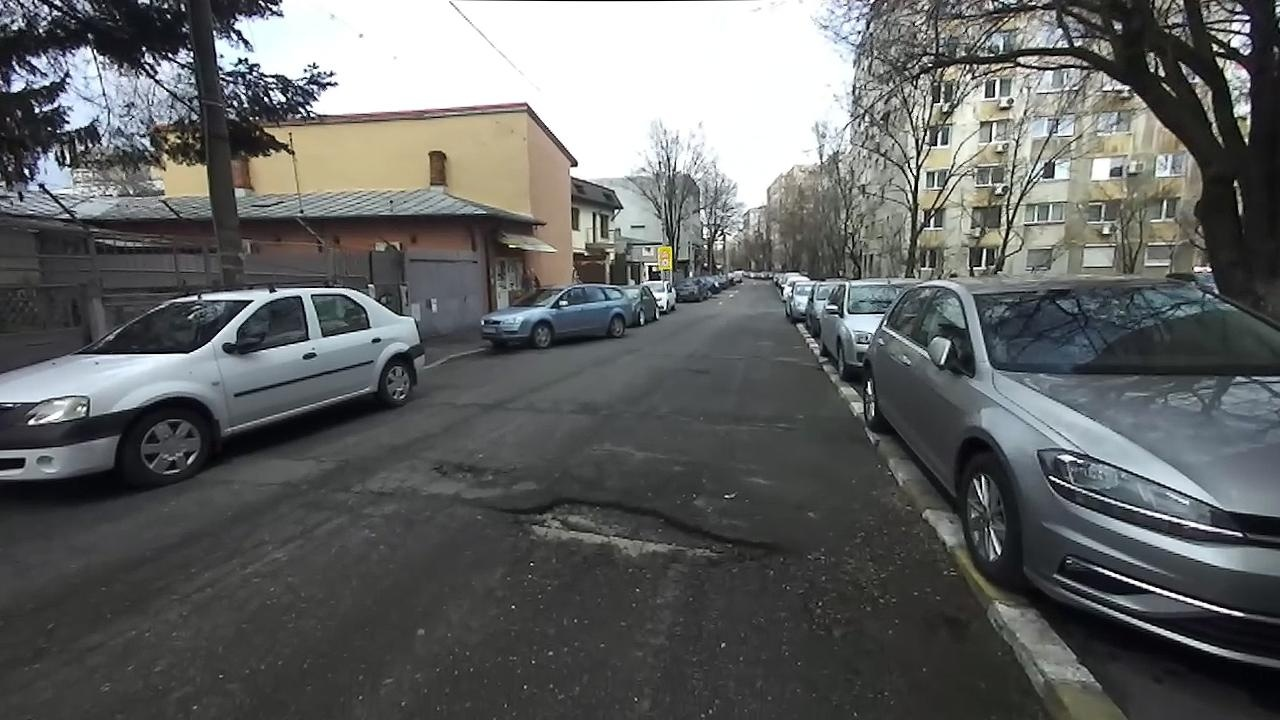pothole: (481, 493, 790, 573), (426, 452, 514, 485)
